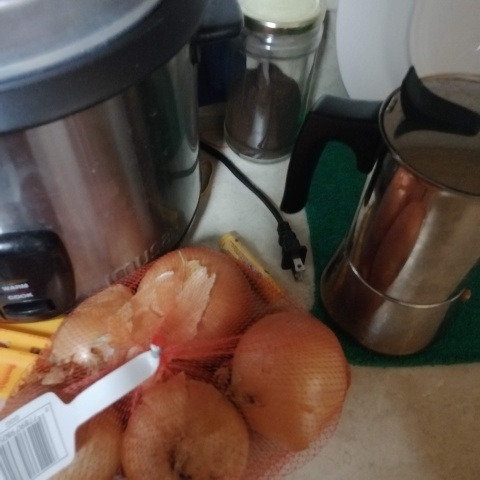chapstick: (219, 231, 283, 311)
